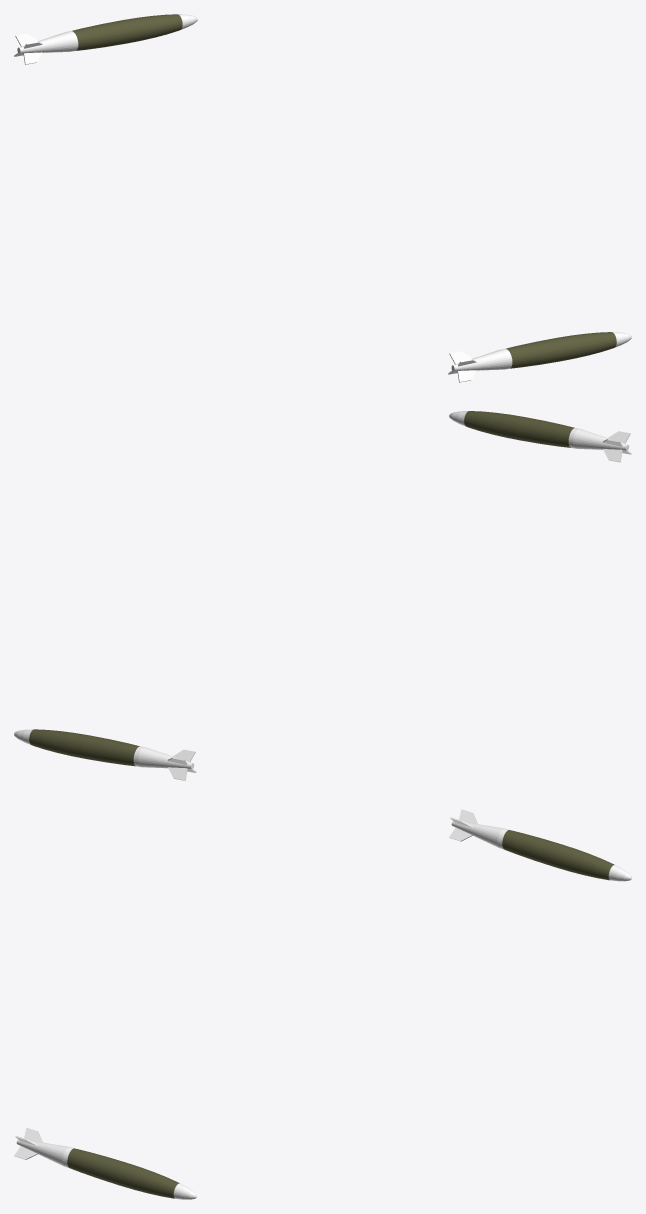
File: f35bgbu3814.glb
3 renders of one model, top to bottom at view 1: azimuth 30°, elevation 25°; view 2: azimuth 150°, elevation 25°; view 3: azimuth 330°, elevation 25°, orthographic.
Parts seen in each view (by area): view 1: 円柱.007, 円柱.006; view 2: 円柱.006, 円柱.007; view 3: 円柱.006, 円柱.007.
Boxes of the visible parts, left/top/right/bottom form: 円柱.007: left=14, top=14, right=197, bottom=64; 円柱.006: left=448, top=332, right=631, bottom=382; 円柱.006: left=449, top=411, right=631, bottom=462; 円柱.007: left=14, top=729, right=196, bottom=780; 円柱.006: left=14, top=1127, right=196, bottom=1199; 円柱.007: left=449, top=809, right=631, bottom=881.
Bounding box in the file's own units: 2.41 × 0.3732 × 10.44.
Materials: 3 (1 with a texture image).
